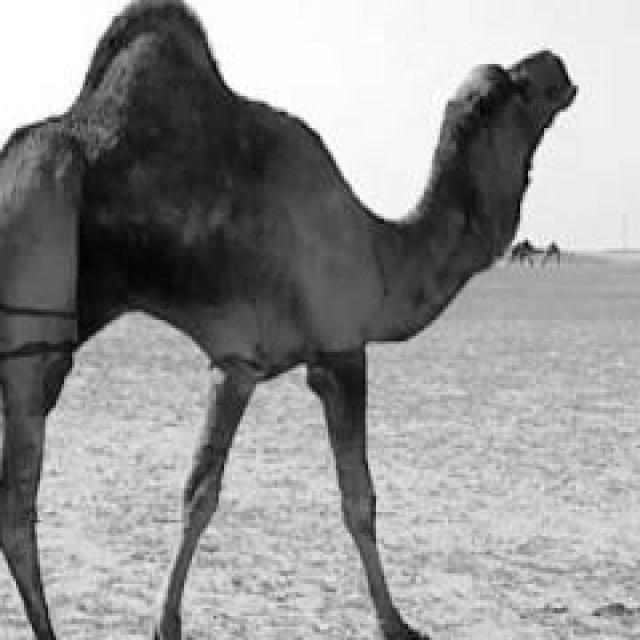Camel: (0, 0, 578, 637), (509, 237, 560, 267)
